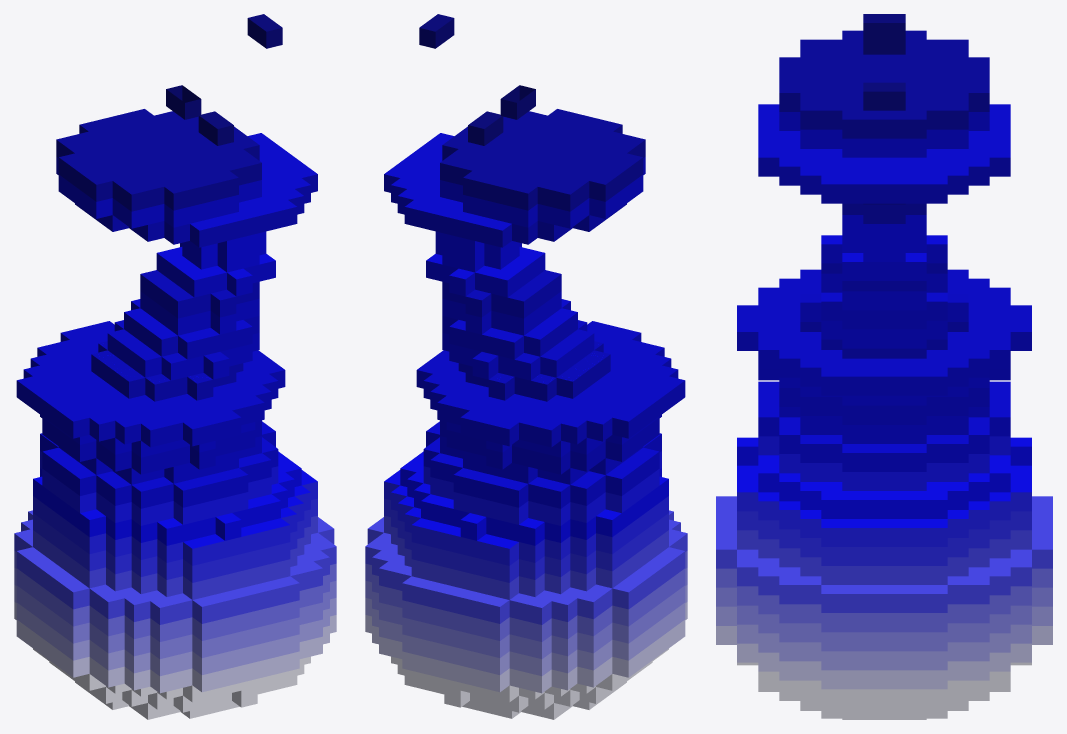
The model's file is SMBTB0_flame.obj.
3 renders of one model, left to right at view 1: azimuth 30°, elevation 25°; view 2: azimuth 150°, elevation 25°; view 3: azimuth 270°, elevation 25°, orthographic. The views are drawn at different scales.
Parts seen in each view (by area): view 1: TorchFlame; view 2: TorchFlame; view 3: TorchFlame.
Part boxes in pixels (x1=…): TorchFlame: x1=14, y1=14, x2=336, y2=719; TorchFlame: x1=365, y1=14, x2=687, y2=719; TorchFlame: x1=716, y1=14, x2=1052, y2=719.
Size of the model in its own units: 0.4211 by 0.9737 by 0.4211.
1 material, 1 textured.
